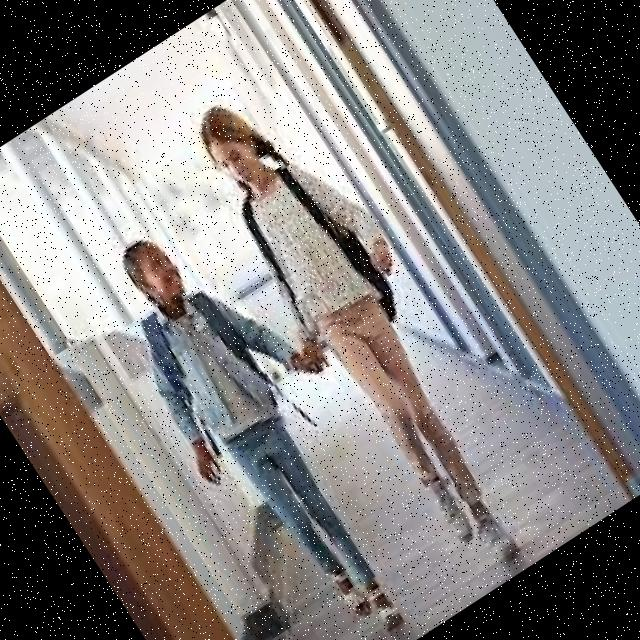Person: (164, 67, 565, 589), (73, 195, 456, 640)
